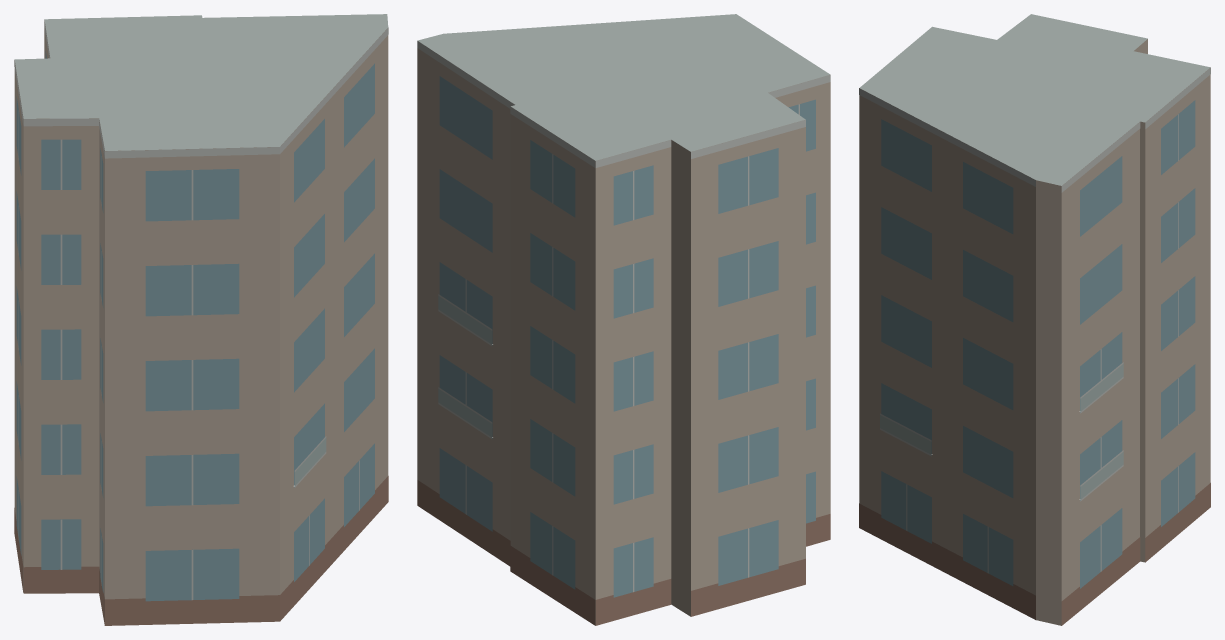
File: survey-upis-32908059.glb
3 renders of one model, left to right at view 1: azimuth 30°, elevation 25°; view 2: azimuth 150°, elevation 25°; view 3: azimuth 270°, elevation 25°, orthographic. The views are drawn at different scales.
Parts seen in each view (by area): view 1: survey-upis-32908059.tmp; view 2: survey-upis-32908059.tmp; view 3: survey-upis-32908059.tmp.
Boxes of the visible parts, x1,y1,x2,y2 form: survey-upis-32908059.tmp: [14, 14, 388, 625]; survey-upis-32908059.tmp: [417, 14, 830, 625]; survey-upis-32908059.tmp: [859, 14, 1210, 625].
Size of the model in its own units: 13 by 15.5 by 11.23.
